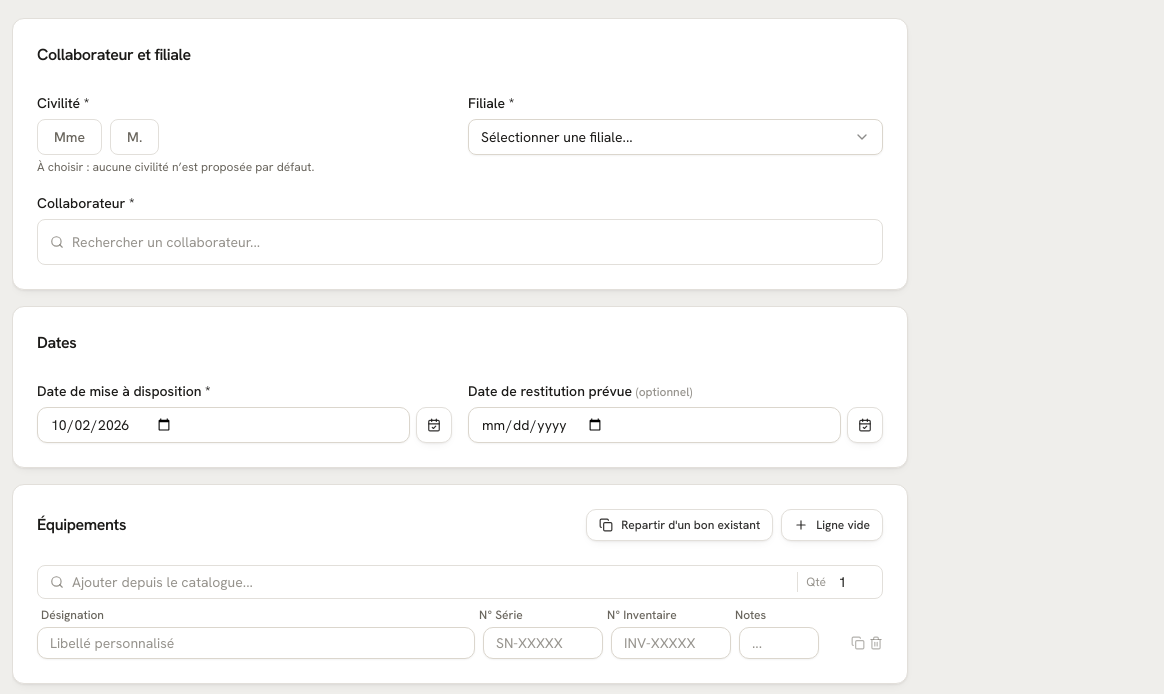
Test case: BonCreatePage — validation avant envoi › refuse la soumission sans collaborateur sélectionné, sans jamais appeler POST /bons
Type "2026-01-01" into the date field labelled "Date de mise à disposition *" at (224, 425), box left=37, top=407, right=410, bottom=443
(page scrolled)
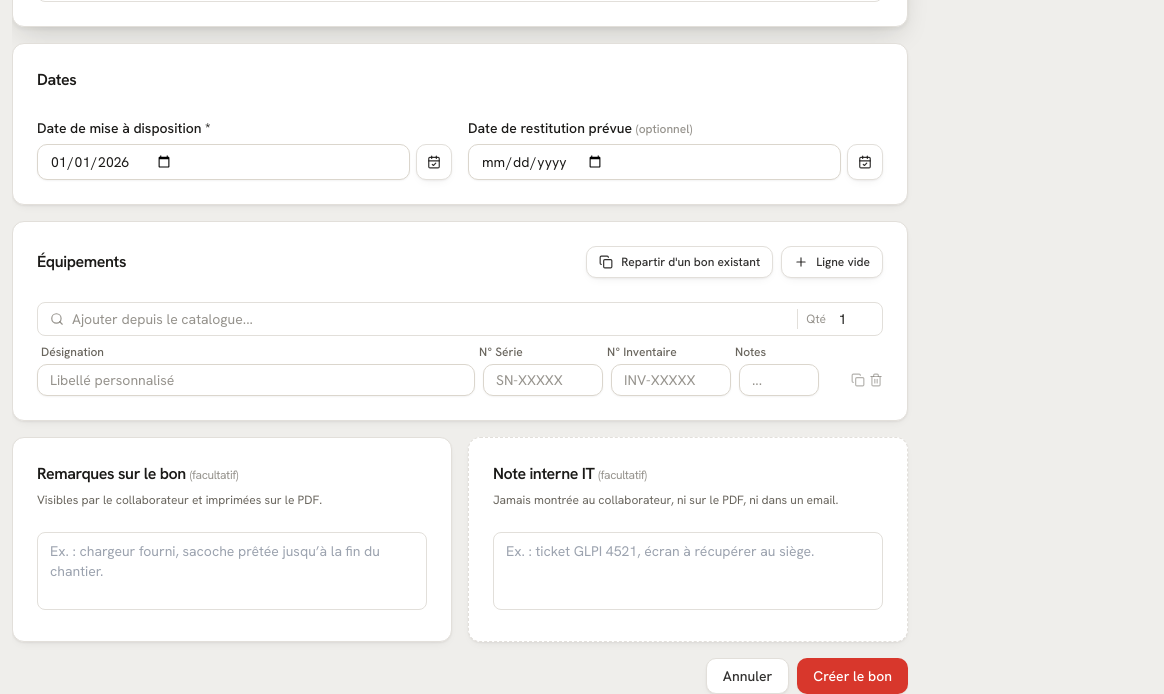
Click the button "Créer le bon" at (853, 676), box left=797, top=658, right=908, bottom=693
(page scrolled)
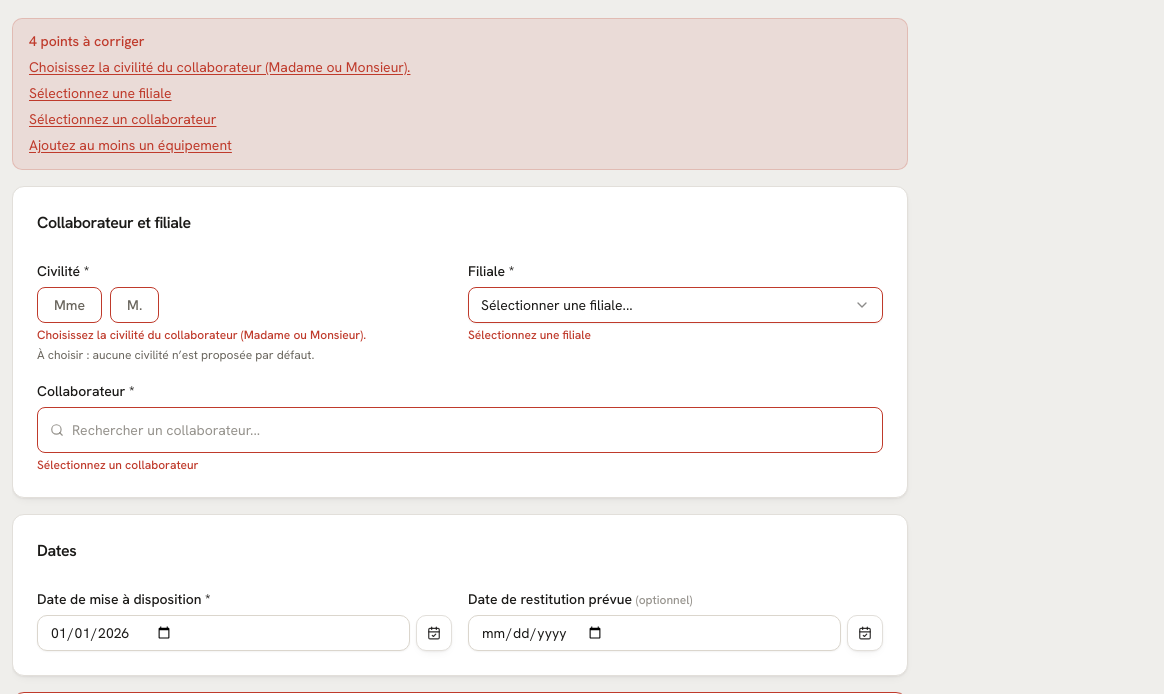
Result: the button "Sélectionnez un collaborateur" is shown at left=29, top=107, right=891, bottom=131
